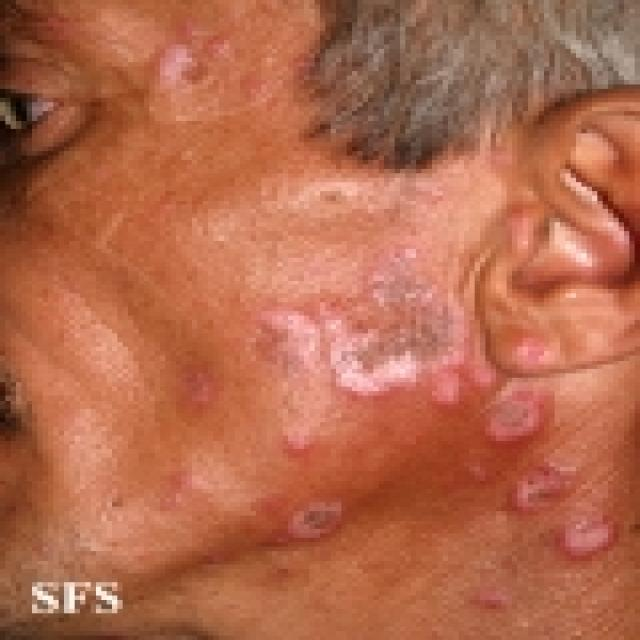lupus: (244, 227, 623, 591)
